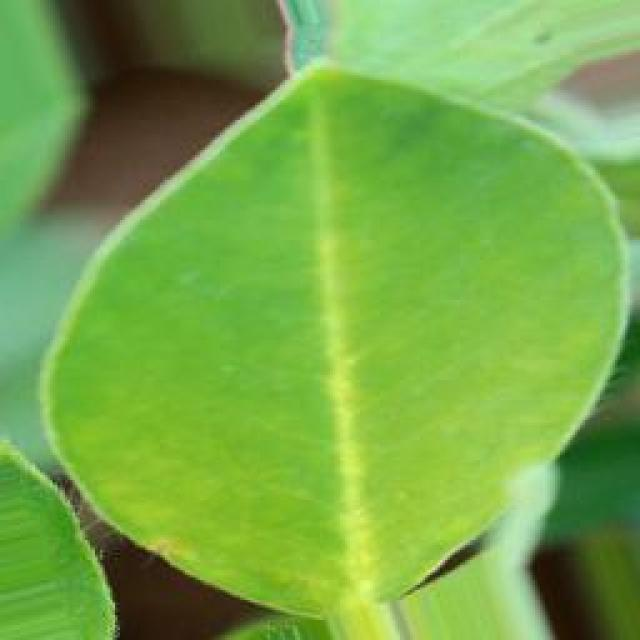Yellow_and_black_sigatoka: (43, 46, 640, 618)
